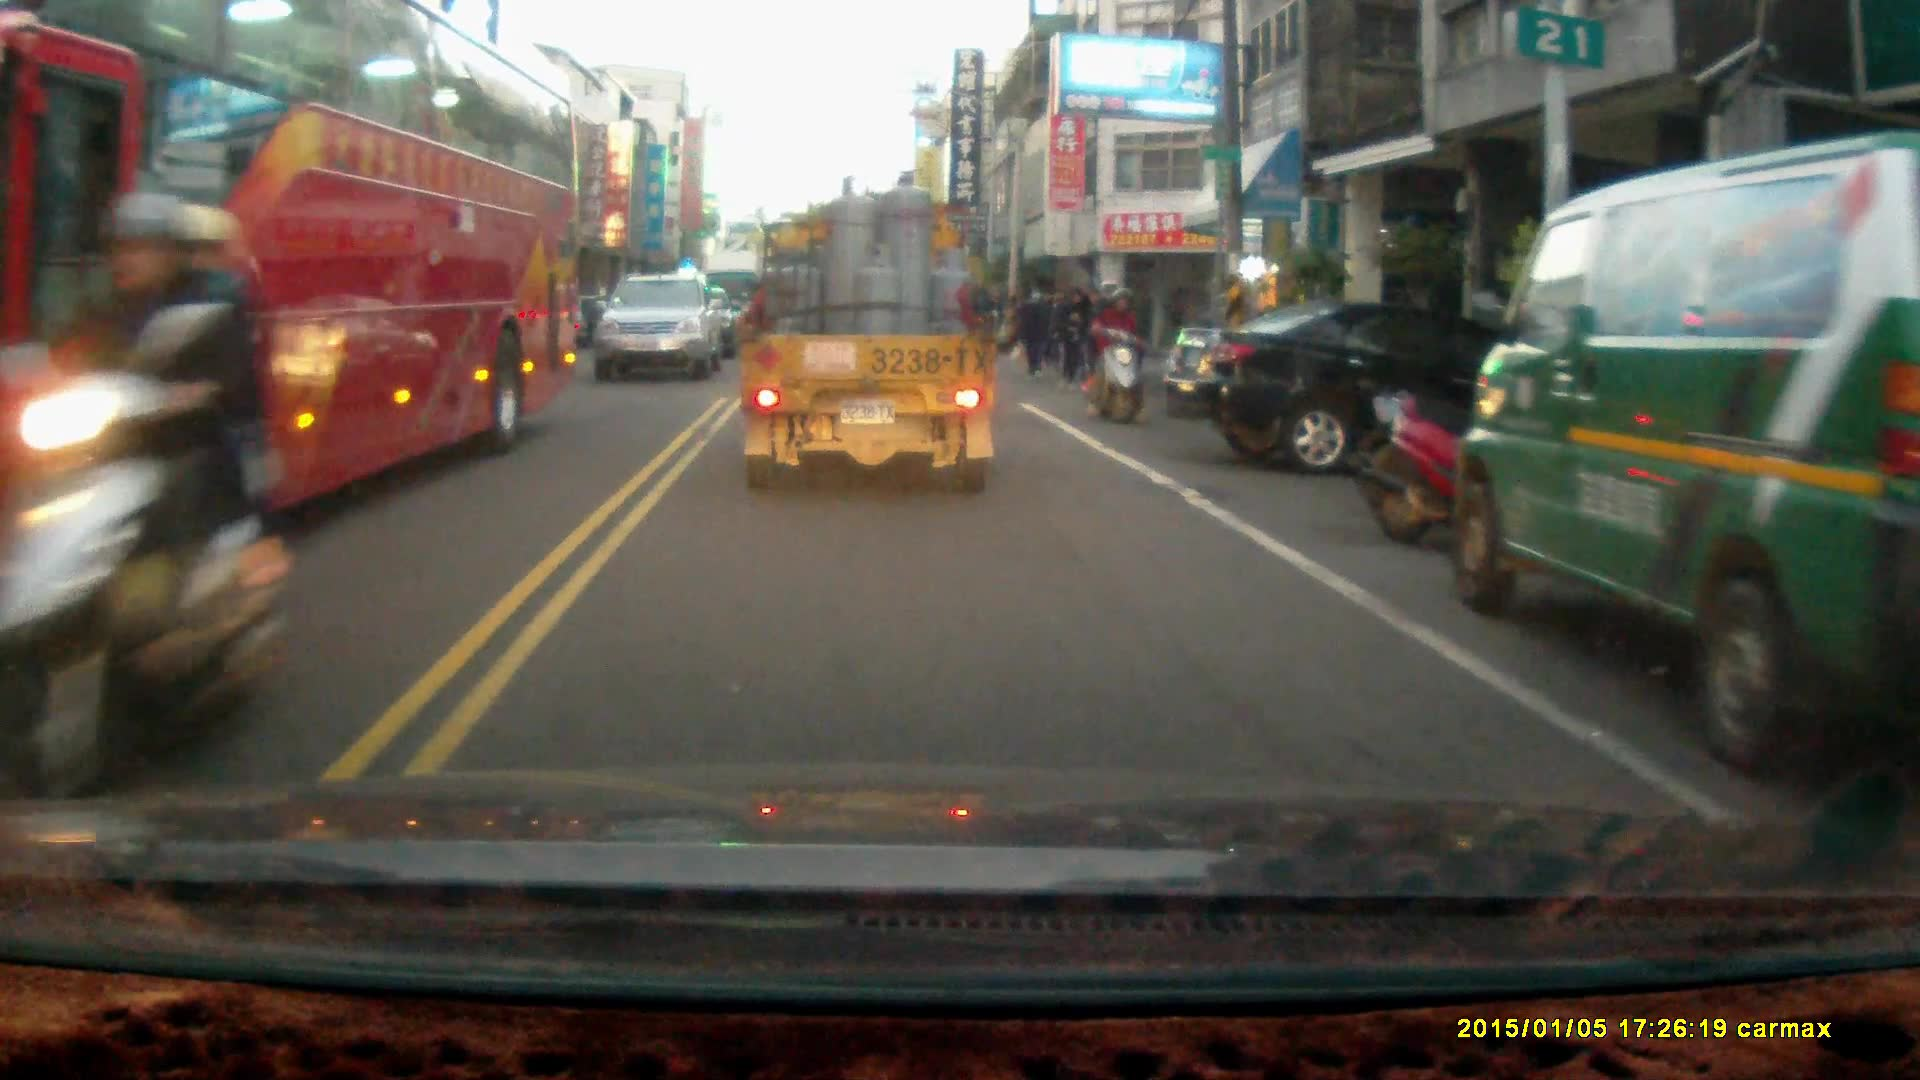pedestrian: (1055, 285, 1092, 390), (1019, 284, 1055, 373)
rider: (0, 189, 296, 813), (1086, 275, 1150, 426)
vehicle: (1, 7, 591, 638), (1447, 129, 1920, 779), (737, 166, 1003, 495), (1170, 300, 1562, 477), (600, 272, 727, 383)
